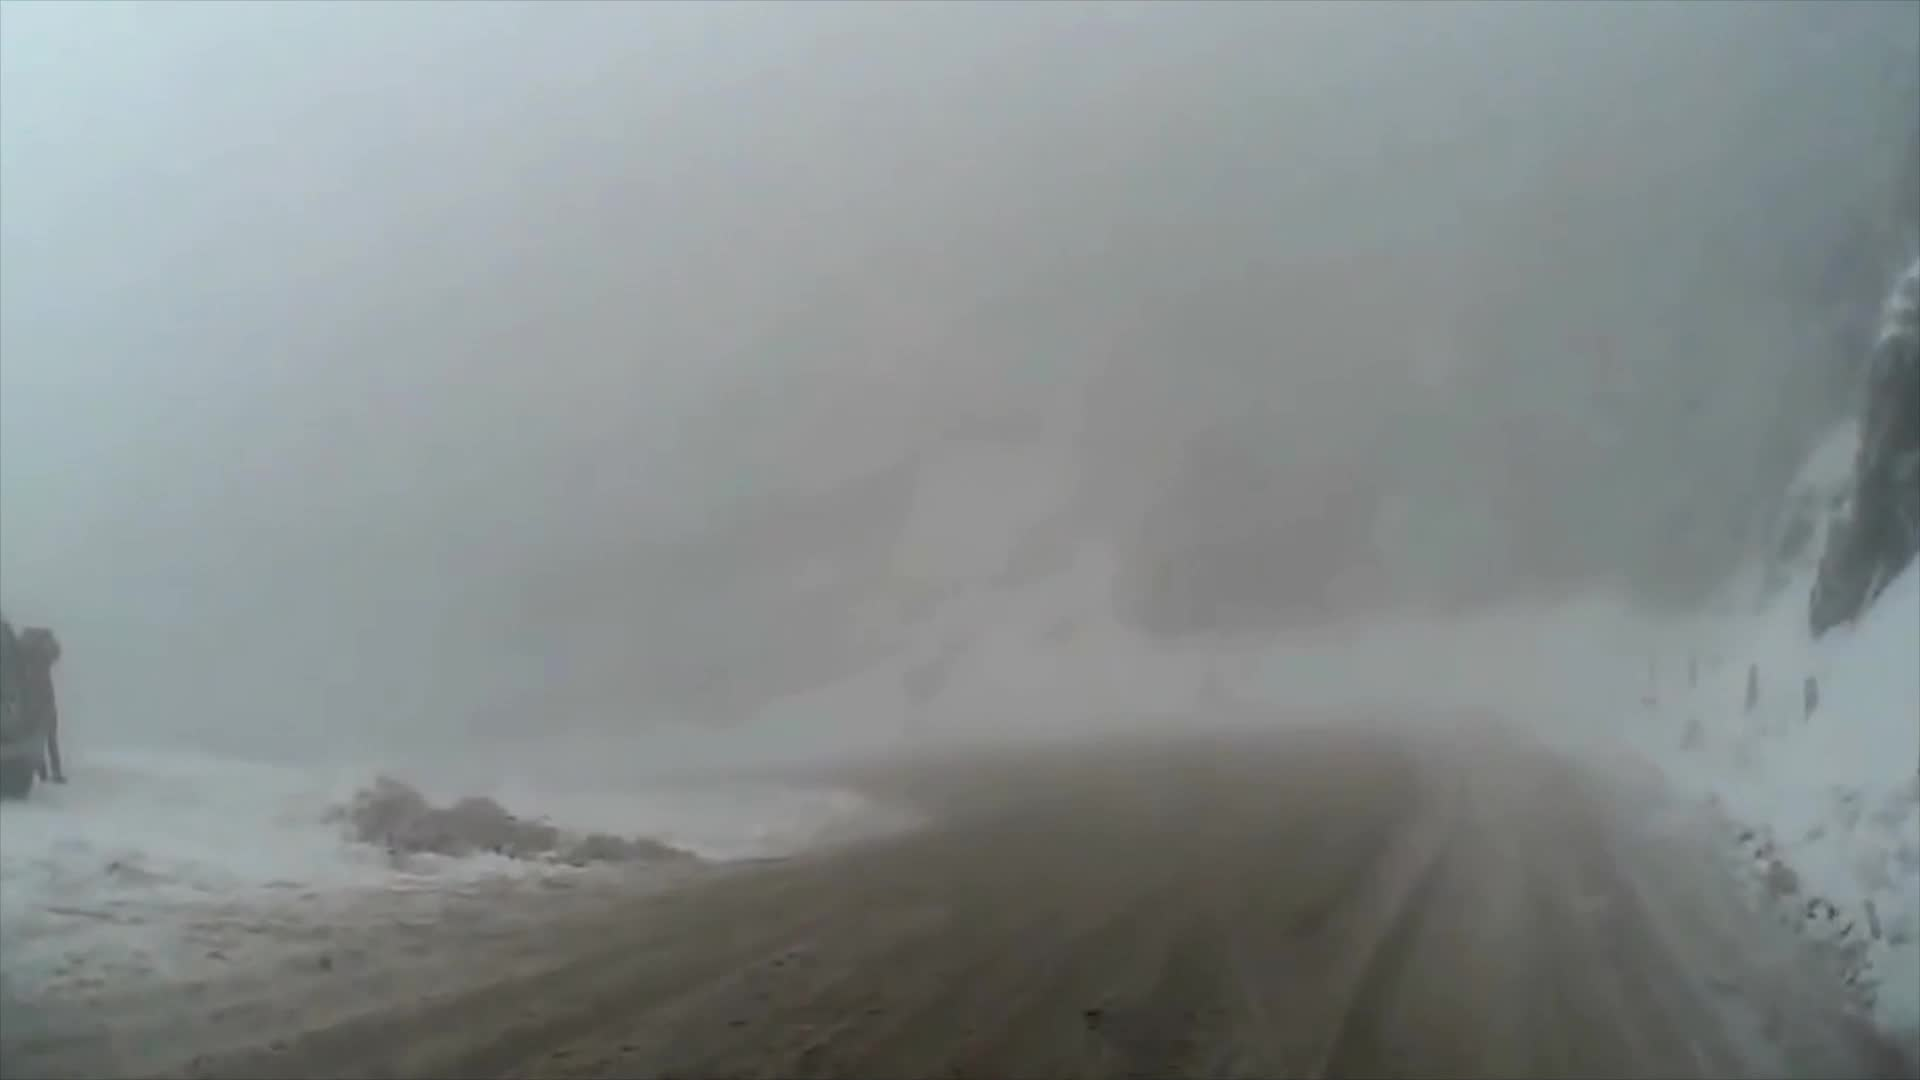vehicle: (0, 618, 40, 804)
